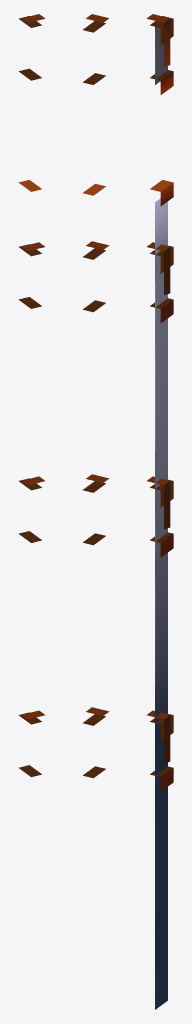
The picture shows the model from 3 angles, left to right: view 1: azimuth 30°, elevation 25°; view 2: azimuth 150°, elevation 25°; view 3: azimuth 330°, elevation 25°; orthographic projection.
Bounding box in the file's own units: 0.7891 × 42.25 × 1.
2 materials, 2 textured.
